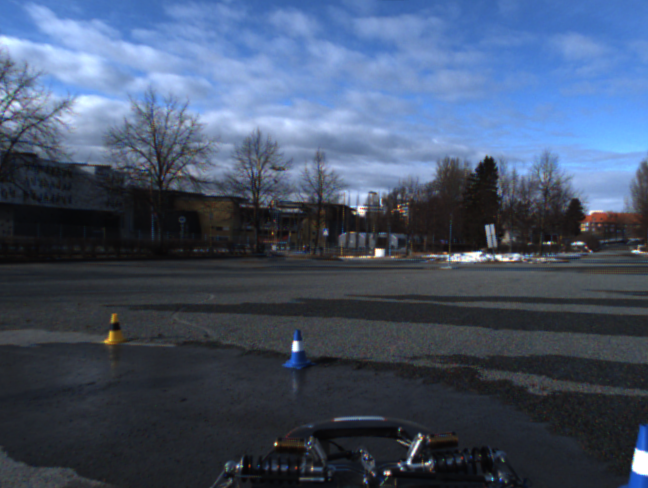cone-small-blue: (282, 329, 316, 369)
cone-small-yellow: (101, 312, 130, 345)
